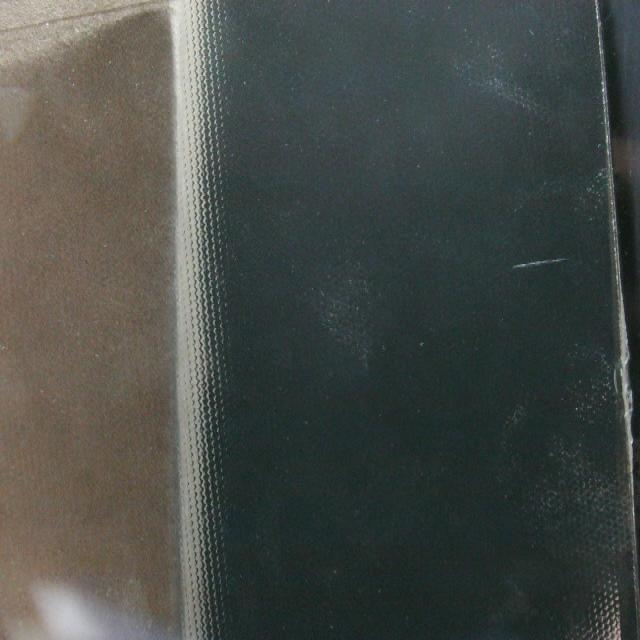edge_chip: (612, 312, 640, 463)
scratch: (511, 242, 569, 282)
